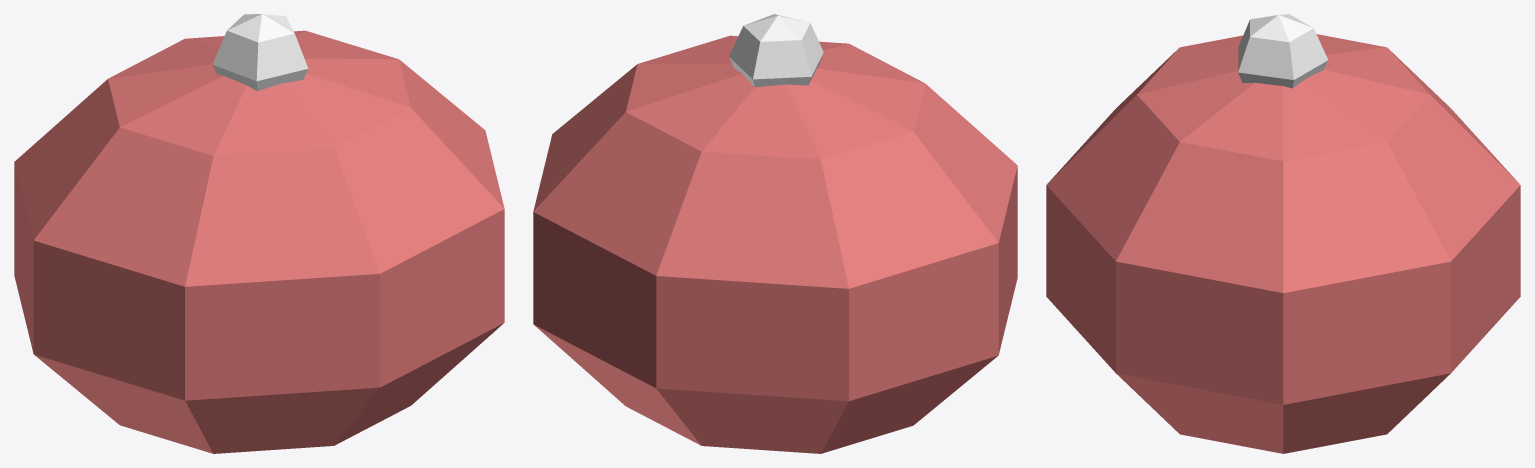
The model's file is hat_beanie.glb.
The picture shows the model from 3 angles, left to right: view 1: azimuth 30°, elevation 25°; view 2: azimuth 150°, elevation 25°; view 3: azimuth 270°, elevation 25°; orthographic projection.
Visible parts, largest first — view 1: beanie, sphere; view 2: beanie, sphere; view 3: beanie, sphere.
Boxes of the visible parts, x1=… form: beanie: x1=14, y1=30, x2=504, y2=453; sphere: x1=212, y1=14, x2=308, y2=91; beanie: x1=533, y1=35, x2=1017, y2=453; sphere: x1=729, y1=14, x2=823, y2=87; beanie: x1=1046, y1=34, x2=1520, y2=453; sphere: x1=1238, y1=14, x2=1328, y2=88.
Size of the model in its own units: 0.5136 by 0.45 by 0.4755.
